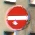No entry: (6, 6, 30, 30)
